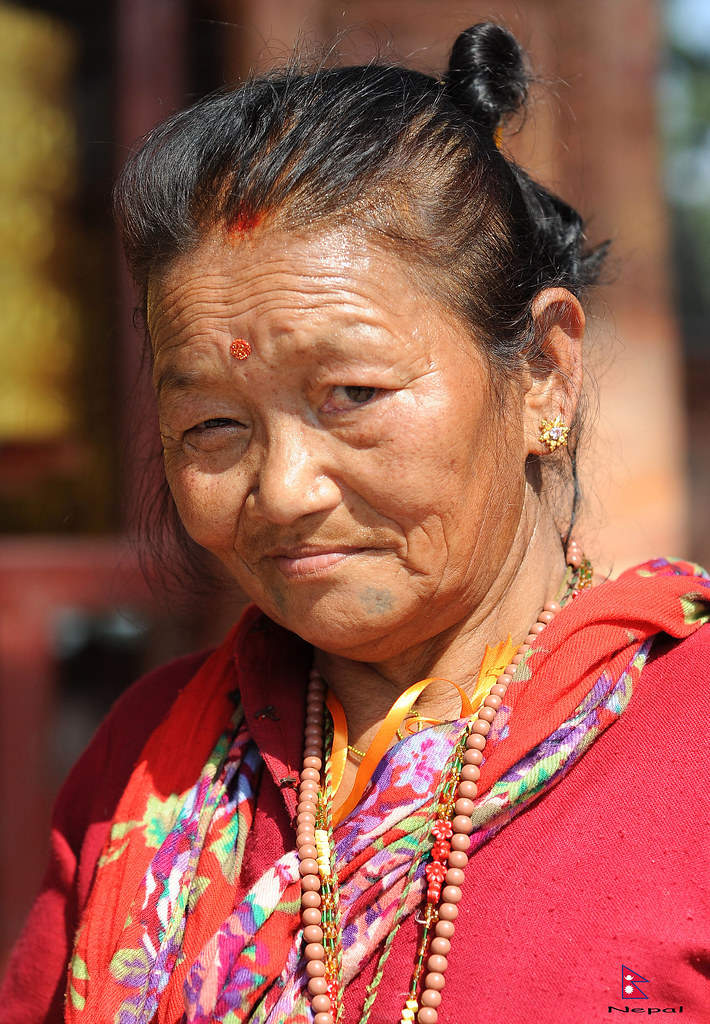human: (15, 21, 710, 1024)
